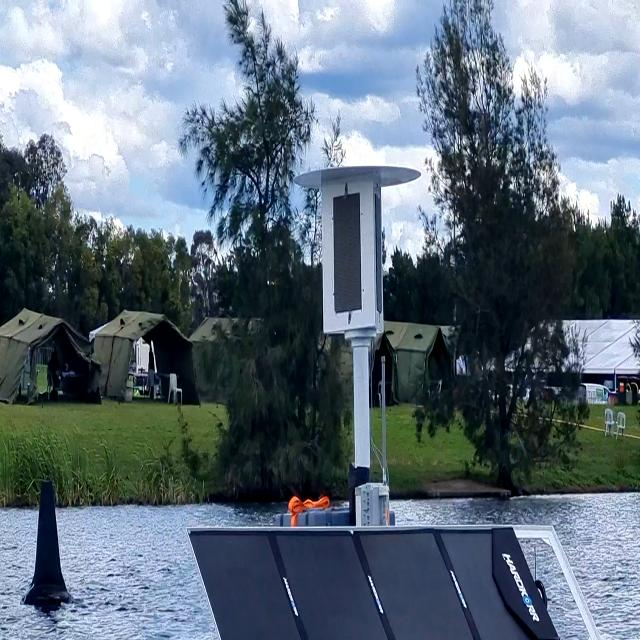led: (327, 184, 374, 320)
